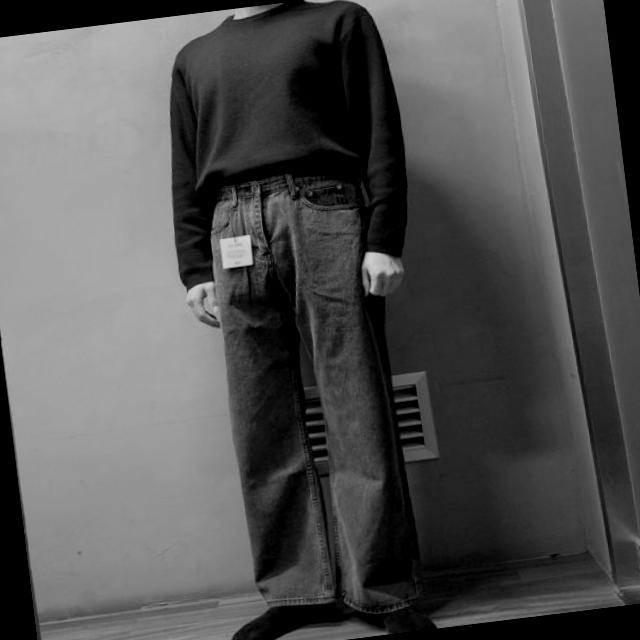denimpants: (198, 164, 420, 623)
longsleeve: (147, 0, 418, 291)
